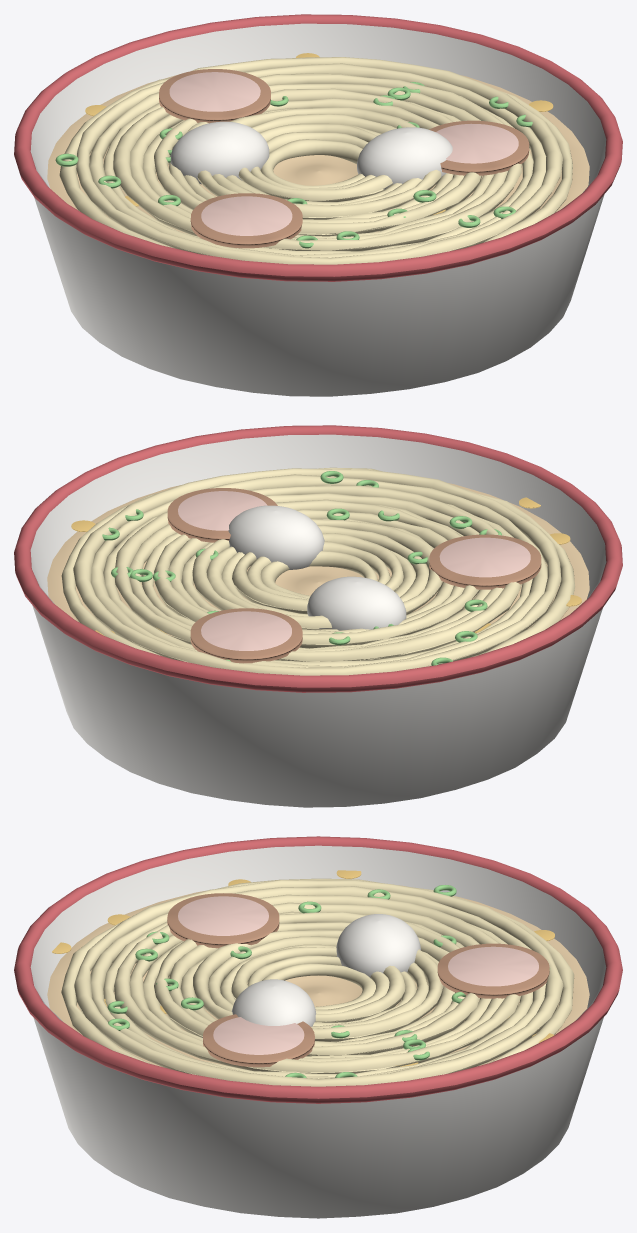
File: ramen.glb
The picture shows the model from 3 angles, top to bottom: view 1: azimuth 30°, elevation 25°; view 2: azimuth 150°, elevation 25°; view 3: azimuth 270°, elevation 25°; orthographic projection.
Bounding box in the file's own units: 0.348 × 0.1112 × 0.348.
